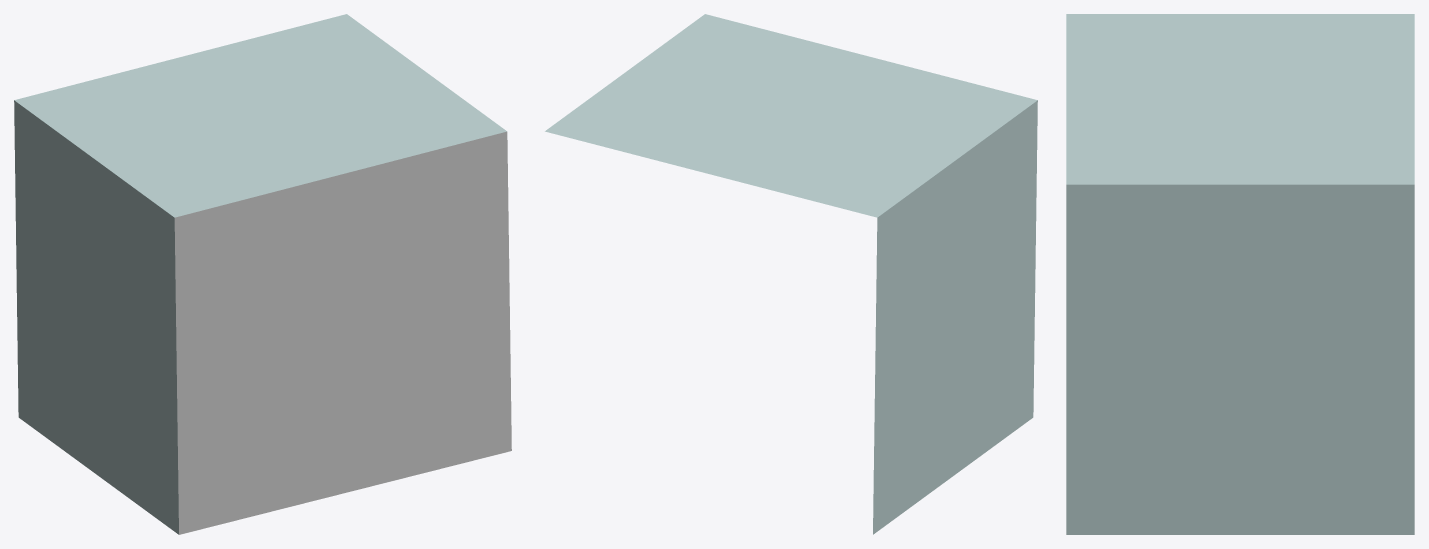
The picture shows the model from 3 angles, left to right: view 1: azimuth 30°, elevation 25°; view 2: azimuth 150°, elevation 25°; view 3: azimuth 270°, elevation 25°; orthographic projection. The views are drawn at different scales.
Visible parts, largest first — view 1: 0_2_1_1_3_0_0_0_1; view 2: 0_2_1_1_3_0_0_0_1; view 3: 0_2_1_1_3_0_0_0_1.
Part boxes in pixels (bbox=[...]): 0_2_1_1_3_0_0_0_1: bbox=[14, 14, 511, 534]; 0_2_1_1_3_0_0_0_1: bbox=[545, 14, 1037, 534]; 0_2_1_1_3_0_0_0_1: bbox=[1066, 14, 1414, 534].
Size of the model in its own units: 3.64 by 3.33 by 3.
